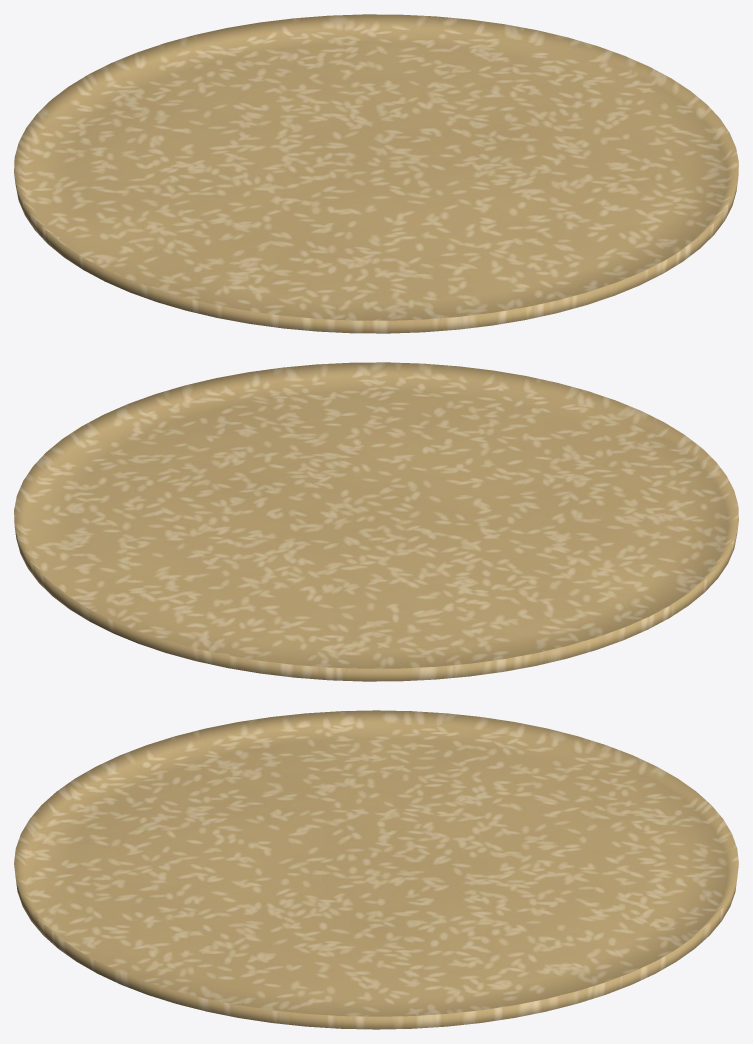
Rendered from FOOD_Common_PlainCongee.glb.
3 views of the same model, one above another, from view 1: azimuth 30°, elevation 25°; view 2: azimuth 150°, elevation 25°; view 3: azimuth 270°, elevation 25° (orthographic).
Visible parts, largest first — view 1: FOOD_Common_PlainCongee; view 2: FOOD_Common_PlainCongee; view 3: FOOD_Common_PlainCongee.
Boxes of the visible parts, x1,y1,x2,y2 form: FOOD_Common_PlainCongee: (14, 14, 738, 333); FOOD_Common_PlainCongee: (14, 362, 738, 681); FOOD_Common_PlainCongee: (14, 710, 738, 1029).
Bounding box in the file's own units: 0.68 × 0.014 × 0.68.
Materials: 1 (1 with a texture image).
